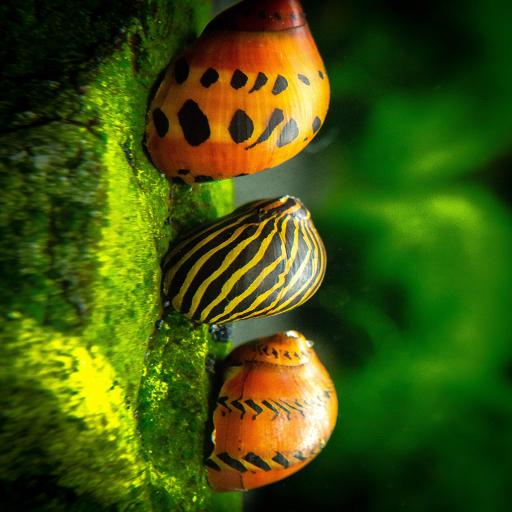Snail: (142, 0, 330, 184), (155, 190, 337, 328), (203, 330, 335, 492)
